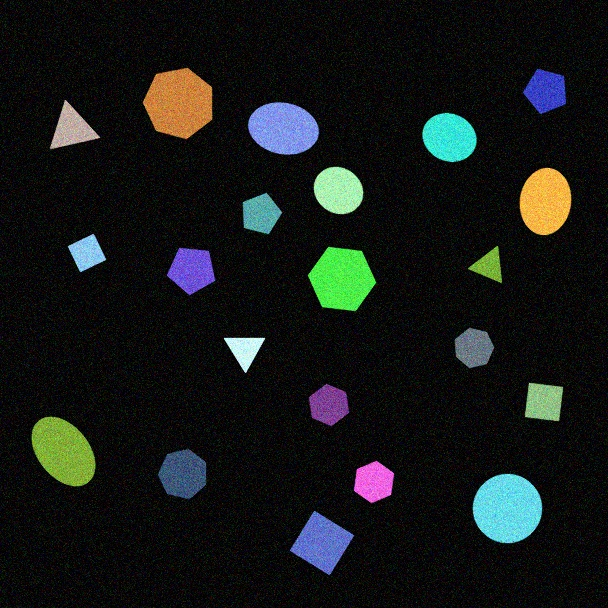Circulo: (472, 473, 543, 544), (422, 112, 477, 163), (313, 166, 364, 215)
Elipse: (31, 416, 96, 487), (247, 102, 320, 155), (519, 167, 572, 236)
Heptagono: (142, 67, 213, 140), (157, 448, 207, 500), (454, 327, 495, 369)
Hexagono: (307, 246, 377, 312), (308, 383, 350, 427), (353, 460, 395, 504)
Pentagono: (166, 247, 216, 296), (522, 68, 567, 115), (242, 192, 283, 235)
Quadrado: (289, 510, 355, 576), (67, 233, 107, 273), (524, 382, 564, 422)
Triangulo: (49, 100, 101, 150), (223, 337, 266, 374), (468, 245, 503, 284)
